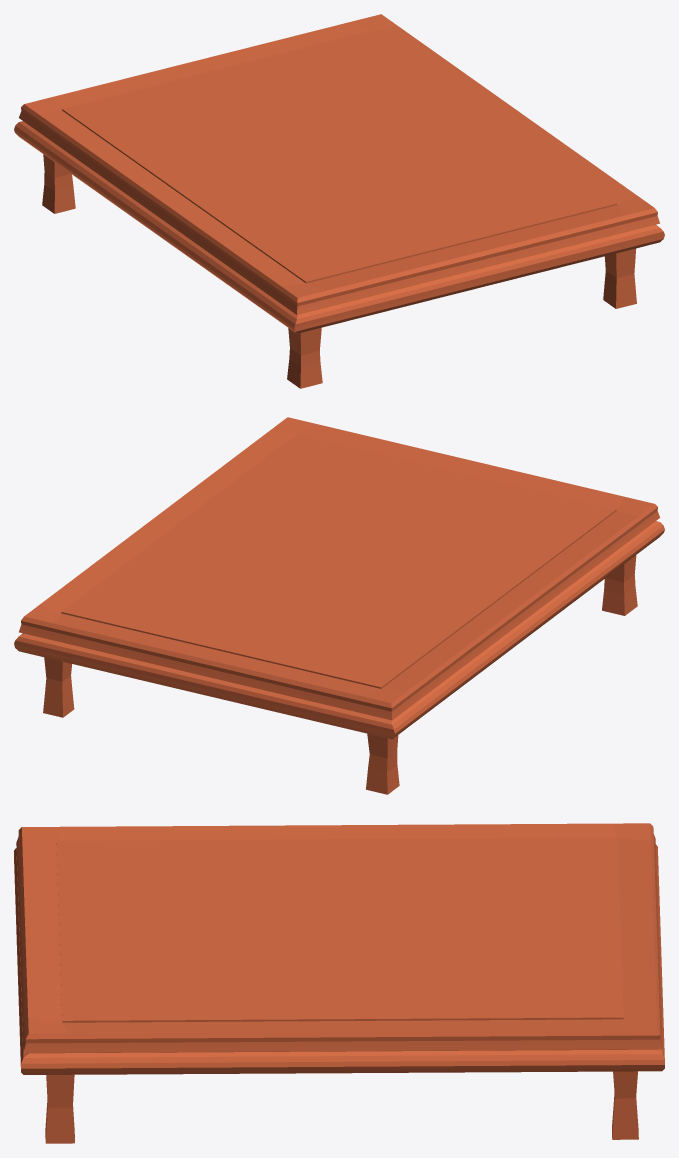
File: Mesa.fbx
3 views of the same model, one above another, from view 1: azimuth 30°, elevation 25°; view 2: azimuth 150°, elevation 25°; view 3: azimuth 270°, elevation 25° (orthographic). The views are drawn at different scales.
Parts seen in each view (by area): view 1: Cube.039; view 2: Cube.039; view 3: Cube.039.
Boxes of the visible parts, x1=… form: Cube.039: x1=14, y1=14, x2=664, y2=388; Cube.039: x1=14, y1=417, x2=664, y2=794; Cube.039: x1=14, y1=823, x2=664, y2=1143.
Bounding box in the file's own units: 120 × 29.67 × 151.
